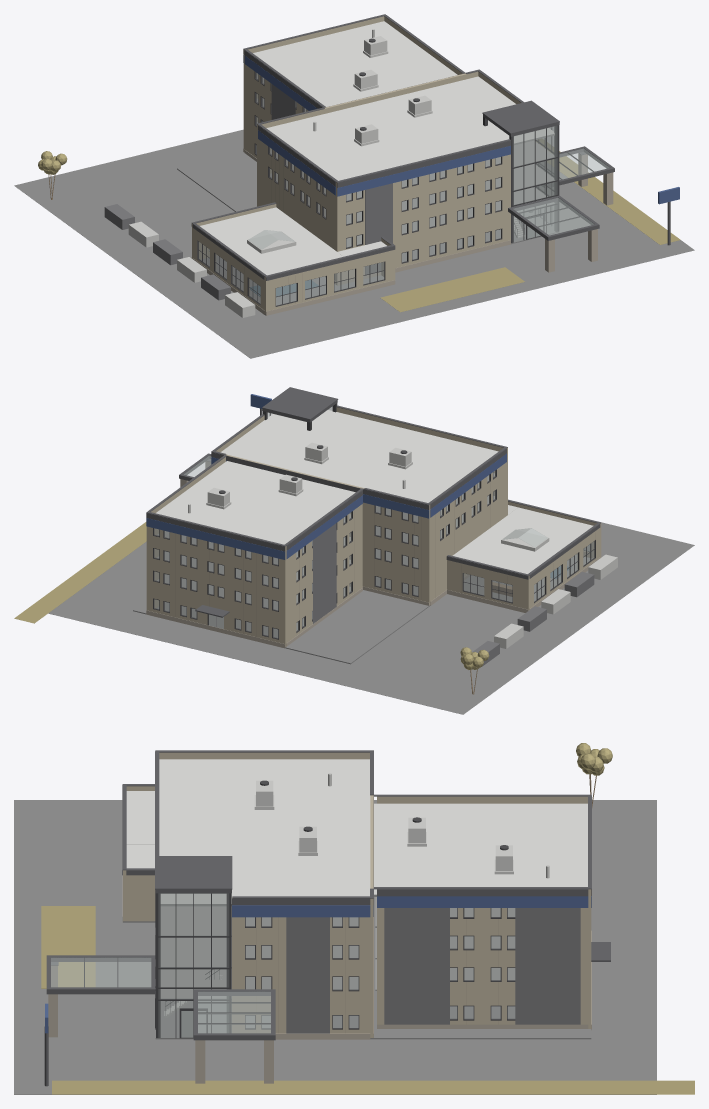
File: clay-limited-service-hotel-clay-v002.glb
The picture shows the model from 3 angles, top to bottom: view 1: azimuth 30°, elevation 25°; view 2: azimuth 150°, elevation 25°; view 3: azimuth 270°, elevation 25°; orthographic projection. The views are drawn at different scales.
Parts seen in each view (by area): view 1: CLAY_FOUNDATION, CLAY_MEMBRANE, CLAY_WALL, CLAY_GLASS, CLAY_CAP, CLAY_TRIM, CLAY_PLANTING, CLAY_PALE, CLAY_CHARCOAL, CLAY_FLOOR, CLAY_ACCENT, CLAY_STONE; view 2: CLAY_FOUNDATION, CLAY_WALL, CLAY_MEMBRANE, CLAY_CAP, CLAY_GLASS, CLAY_TRIM, CLAY_PALE, CLAY_ACCENT, CLAY_CHARCOAL, CLAY_PLANTING, CLAY_FLOOR, CLAY_STONE (+1 smaller); view 3: CLAY_FOUNDATION, CLAY_MEMBRANE, CLAY_WALL, CLAY_CHARCOAL, CLAY_GLASS, CLAY_PLANTING, CLAY_CAP, CLAY_FLOOR, CLAY_TRIM, CLAY_ACCENT, CLAY_STONE, CLAY_PALE.
Part boxes in pixels (left/top/right/bottom): CLAY_FOUNDATION: left=14, top=129, right=694, bottom=358; CLAY_MEMBRANE: left=200, top=21, right=554, bottom=275; CLAY_WALL: left=192, top=16, right=520, bottom=314; CLAY_GLASS: left=198, top=73, right=609, bottom=305; CLAY_CAP: left=191, top=14, right=670, bottom=280; CLAY_TRIM: left=197, top=71, right=593, bottom=306; CLAY_PLANTING: left=38, top=139, right=680, bottom=312; CLAY_PALE: left=128, top=29, right=524, bottom=317; CLAY_CHARCOAL: left=104, top=84, right=392, bottom=300; CLAY_FLOOR: left=256, top=75, right=554, bottom=247; CLAY_ACCENT: left=243, top=54, right=679, bottom=204; CLAY_STONE: left=191, top=149, right=613, bottom=315; CLAY_FOUNDATION: left=48, top=500, right=694, bottom=714; CLAY_WALL: left=146, top=407, right=601, bottom=646; CLAY_MEMBRANE: left=156, top=410, right=593, bottom=573; CLAY_CAP: left=146, top=387, right=601, bottom=617; CLAY_GLASS: left=154, top=406, right=594, bottom=637; CLAY_TRIM: left=153, top=403, right=595, bottom=639; CLAY_PALE: left=188, top=442, right=617, bottom=648; CLAY_ACCENT: left=146, top=394, right=506, bottom=559; CLAY_CHARCOAL: left=313, top=523, right=594, bottom=666; CLAY_PLANTING: left=14, top=522, right=489, bottom=669; CLAY_FLOOR: left=157, top=412, right=494, bottom=610; CLAY_STONE: left=146, top=461, right=600, bottom=648; CLAY_FOUNDATION: left=14, top=800, right=656, bottom=1094; CLAY_MEMBRANE: left=126, top=759, right=587, bottom=903; CLAY_WALL: left=123, top=752, right=591, bottom=1037; CLAY_CHARCOAL: left=286, top=908, right=580, bottom=1033; CLAY_GLASS: left=51, top=893, right=515, bottom=1037; CLAY_PLANTING: left=41, top=743, right=694, bottom=1094; CLAY_CAP: left=44, top=750, right=610, bottom=1086; CLAY_FLOOR: left=160, top=893, right=515, bottom=999; CLAY_TRIM: left=84, top=890, right=515, bottom=1038; CLAY_ACCENT: left=45, top=896, right=591, bottom=1033; CLAY_STONE: left=48, top=875, right=591, bottom=1083; CLAY_PALE: left=164, top=773, right=549, bottom=1017.
Size of the model in its own units: 64 by 15.55 by 62.5.
